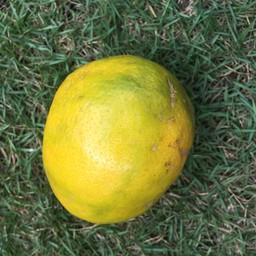Good_orange: (38, 43, 199, 235)
